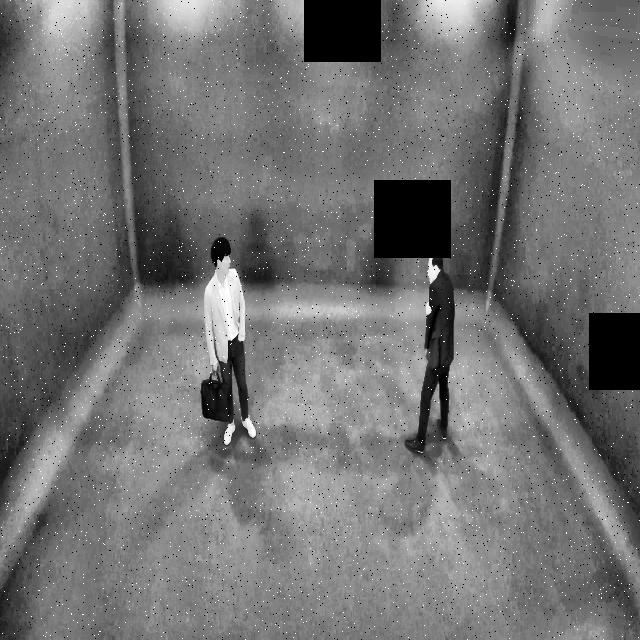assult: (402, 243, 458, 460)
